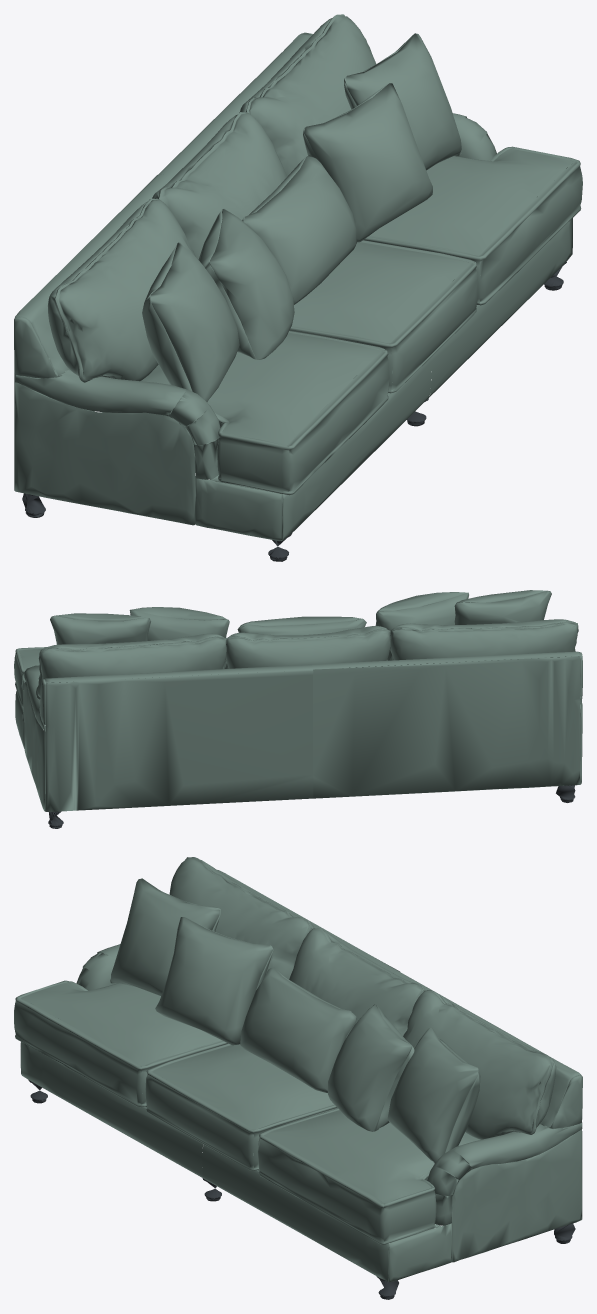
File: ergoflex-couch.glb
The picture shows the model from 3 angles, top to bottom: view 1: azimuth 30°, elevation 25°; view 2: azimuth 150°, elevation 25°; view 3: azimuth 270°, elevation 25°; orthographic projection. The views are drawn at different scales.
Parts seen in each view (by area): view 1: Supplied couch part 0, Supplied couch part 3; view 2: Supplied couch part 0, Supplied couch part 3; view 3: Supplied couch part 0, Supplied couch part 3.
Part boxes in pixels (bbox=[...]): Supplied couch part 0: bbox=[14, 14, 582, 540]; Supplied couch part 3: bbox=[22, 262, 566, 561]; Supplied couch part 0: bbox=[14, 590, 582, 811]; Supplied couch part 3: bbox=[48, 785, 575, 828]; Supplied couch part 0: bbox=[14, 857, 582, 1281]; Supplied couch part 3: bbox=[28, 1080, 575, 1299].
Size of the model in its own units: 2.1 by 0.7074 by 1.86.
